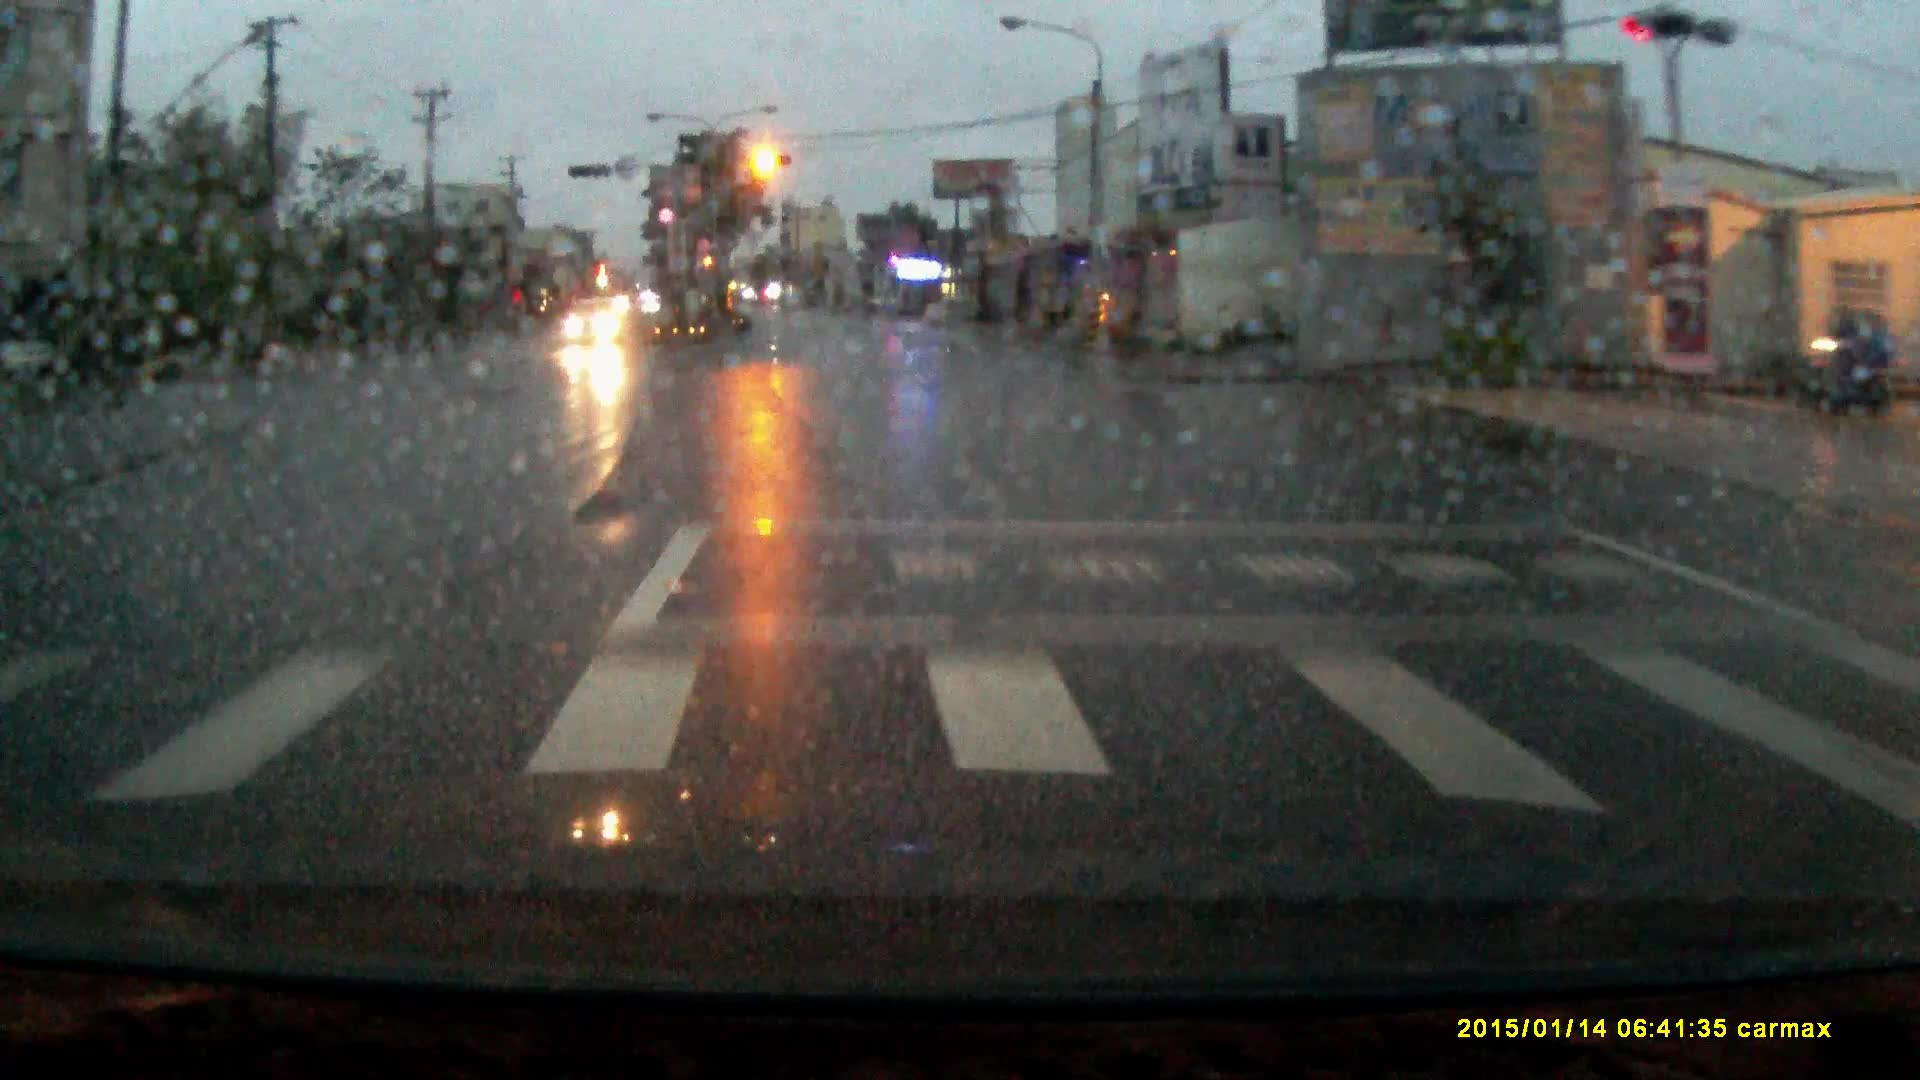rider: (1793, 294, 1899, 420)
vehicle: (561, 295, 627, 341)
